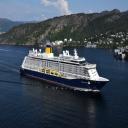cruises: (20, 44, 111, 95)
